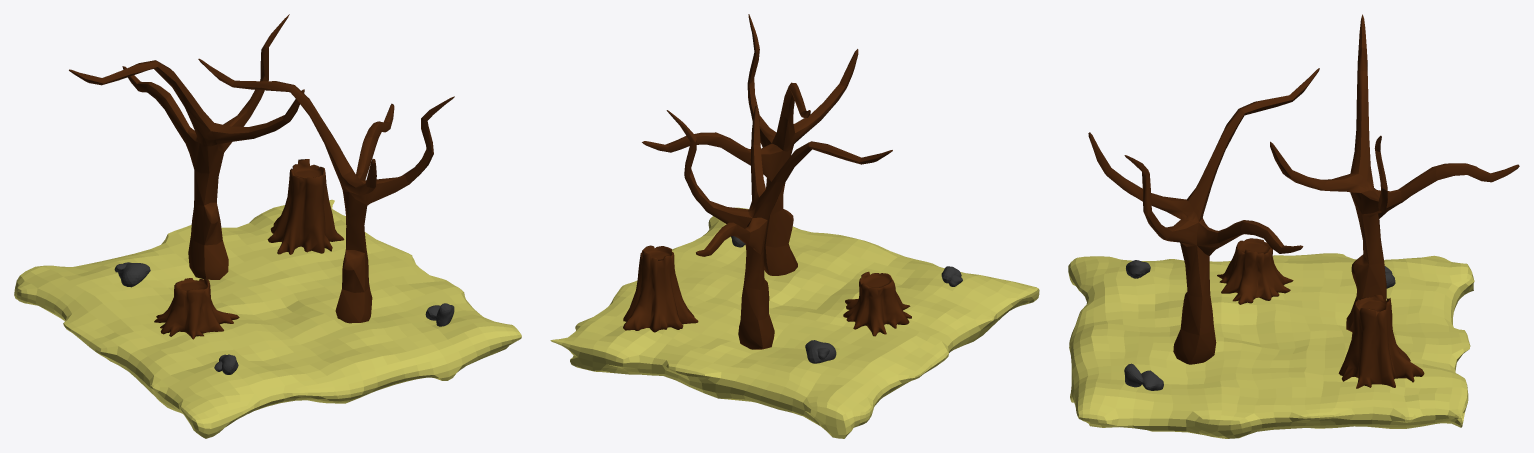
File: desert_tree.fbx
3 renders of one model, left to right at view 1: azimuth 30°, elevation 25°; view 2: azimuth 150°, elevation 25°; view 3: azimuth 270°, elevation 25°, orthographic. The views are drawn at different scales.
Visible parts, largest first — view 1: Plane, tree1, tree002, ProjektM_Large_high_meshId0_name_002, ProjektM_Large_high_meshId0_name_001, Icosphere.001; view 2: Plane, tree1, tree002, ProjektM_Large_high_meshId0_name_002, ProjektM_Large_high_meshId0_name_001, Icosphere.001; view 3: Plane, tree002, tree1, ProjektM_Large_high_meshId0_name_002, ProjektM_Large_high_meshId0_name_001.
Part boxes in pixels (x1,y1,x2,y2): Plane: (14,199,521,438); tree1: (69,14,304,279); tree002: (198,58,454,323); ProjektM_Large_high_meshId0_name_002: (267,159,344,254); ProjektM_Large_high_meshId0_name_001: (154,278,239,339); Icosphere.001: (118,262,150,287); Plane: (550,207,1039,438); tree1: (666,106,892,349); tree002: (642,14,858,275); ProjektM_Large_high_meshId0_name_002: (623,245,698,332); ProjektM_Large_high_meshId0_name_001: (843,271,911,336); Icosphere.001: (805,340,836,363); Plane: (1068,253,1474,438); tree002: (1088,68,1319,364); tree1: (1270,14,1519,331); ProjektM_Large_high_meshId0_name_002: (1338,295,1424,388); ProjektM_Large_high_meshId0_name_001: (1217,238,1293,304).
Size of the model in its own units: 3111 by 2426 by 3542.
